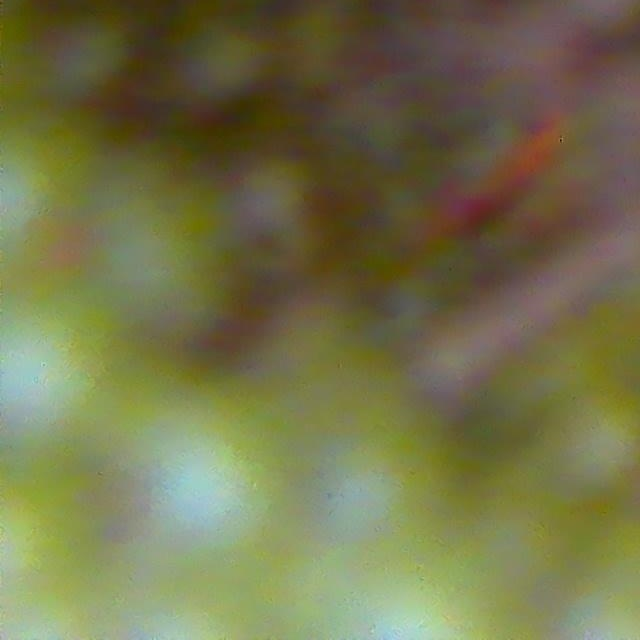SeaGrape: (137, 385, 304, 562), (0, 268, 128, 449), (180, 22, 273, 107), (50, 15, 134, 98)
